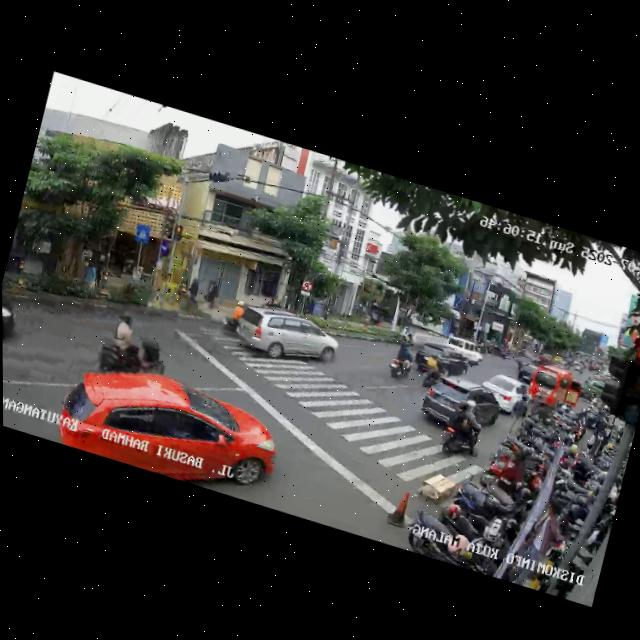car: (51, 346, 287, 507), (234, 297, 342, 380), (411, 363, 507, 446), (525, 359, 586, 422), (475, 368, 531, 421), (411, 335, 471, 383), (2, 285, 34, 359), (443, 334, 485, 368), (513, 361, 539, 385), (584, 373, 608, 397)
motorcycle: (90, 309, 171, 388), (437, 390, 489, 462), (416, 351, 449, 399), (385, 338, 417, 383)
